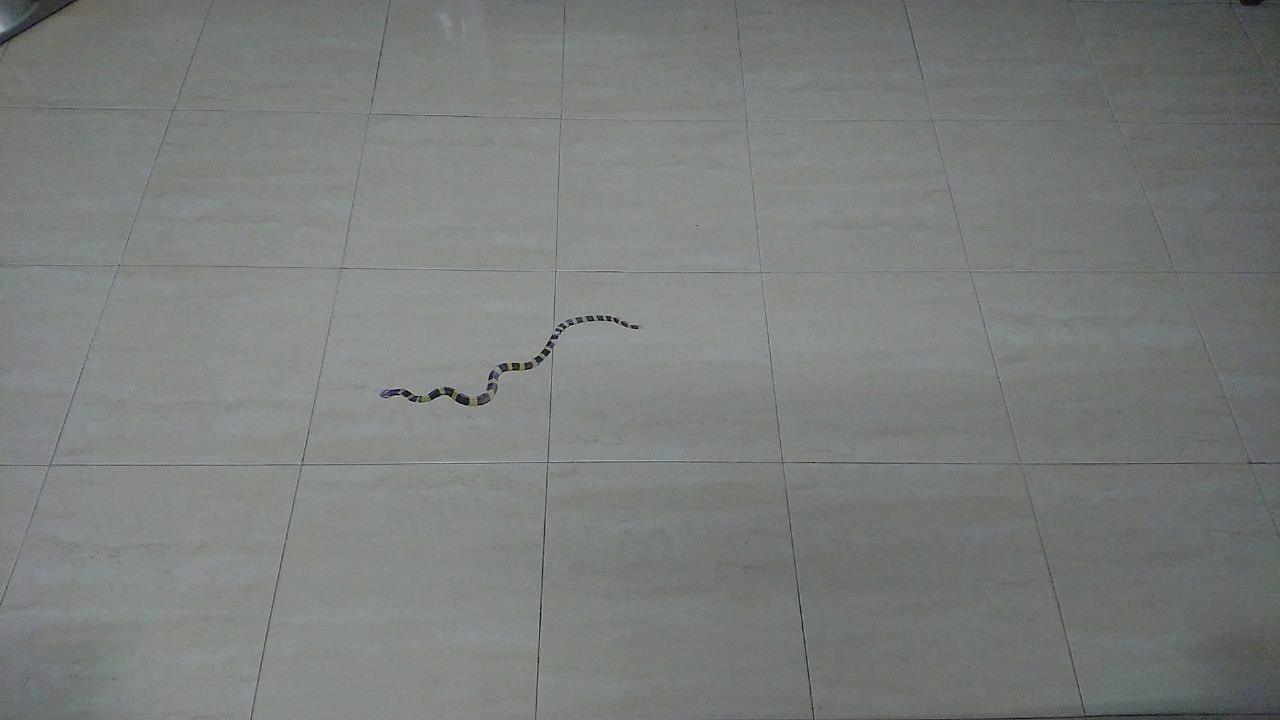snake: (366, 297, 652, 426)
